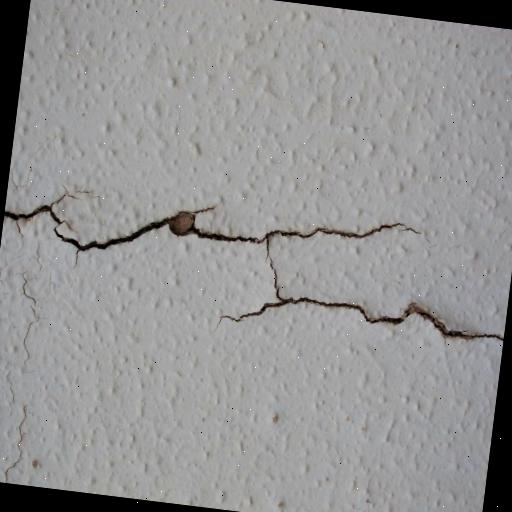spalling: (4, 196, 420, 268), (207, 281, 503, 352)
